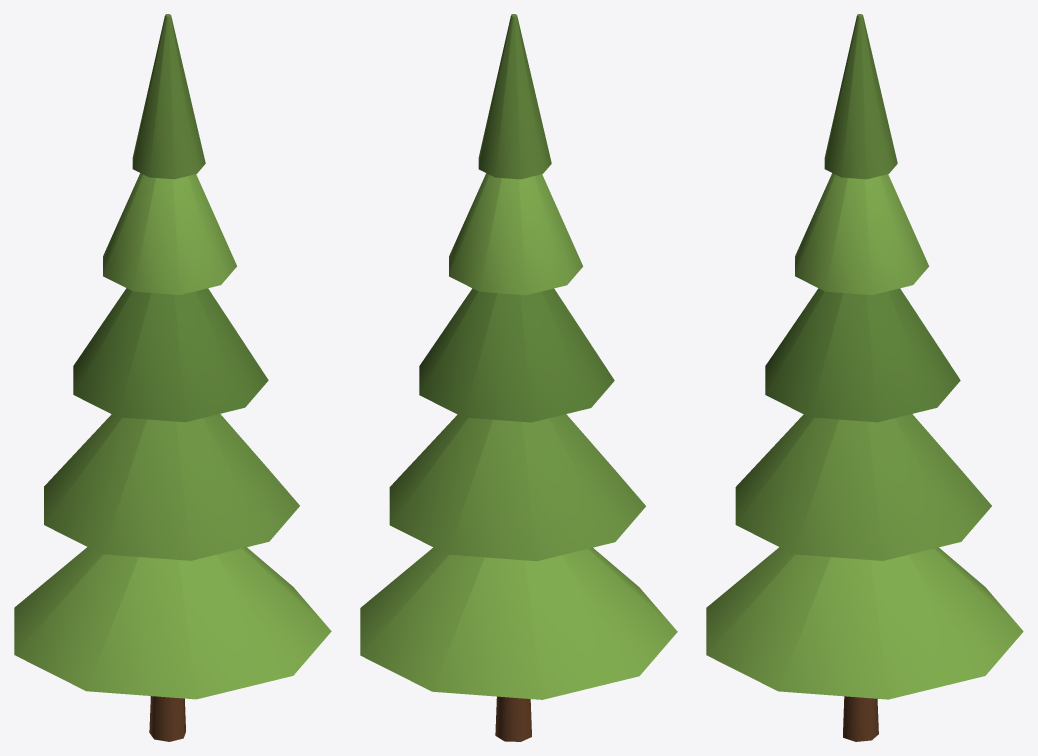
File: spruce_tree_lod.glb
3 renders of one model, left to right at view 1: azimuth 30°, elevation 25°; view 2: azimuth 150°, elevation 25°; view 3: azimuth 270°, elevation 25°, orthographic.
Parts seen in each view (by area): view 1: spruce_tree_lod; view 2: spruce_tree_lod; view 3: spruce_tree_lod.
Boxes of the visible parts, bbox=[...] form: spruce_tree_lod: bbox=[14, 14, 331, 741]; spruce_tree_lod: bbox=[360, 14, 677, 741]; spruce_tree_lod: bbox=[706, 14, 1023, 741].
Bounding box in the file's own units: 5.12 × 12.61 × 5.04.
